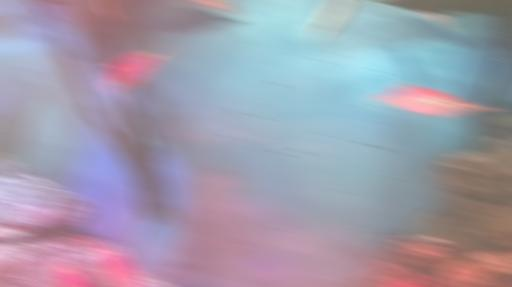Fish: (375, 83, 496, 115), (100, 45, 171, 96), (142, 7, 243, 33), (305, 0, 352, 44), (99, 240, 137, 286), (50, 260, 82, 286), (422, 11, 455, 31), (0, 10, 26, 33), (204, 0, 242, 14), (102, 0, 117, 20), (399, 281, 414, 286)
